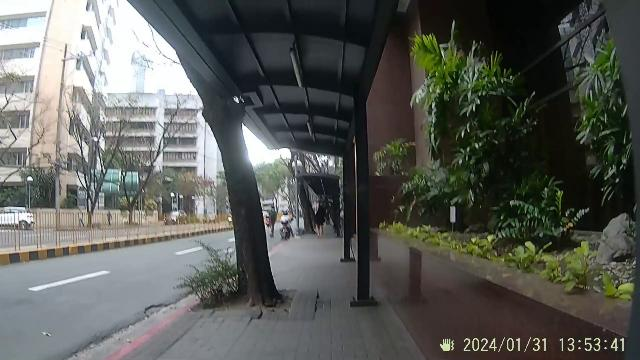potted_plant: (187, 250, 241, 312)
tree: (202, 90, 286, 308)
